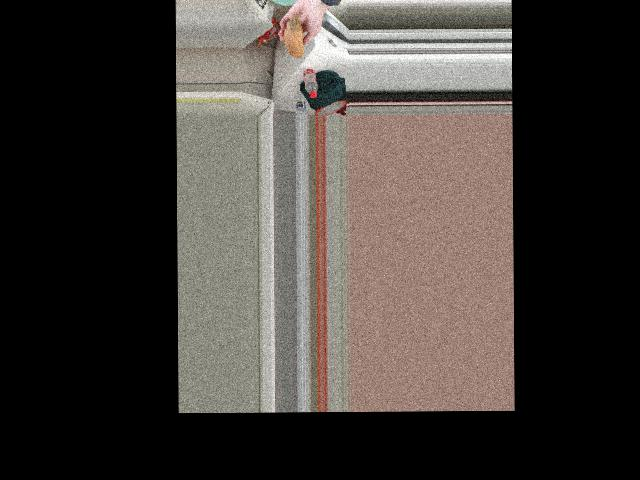sweet_potato: (285, 20, 303, 68)
